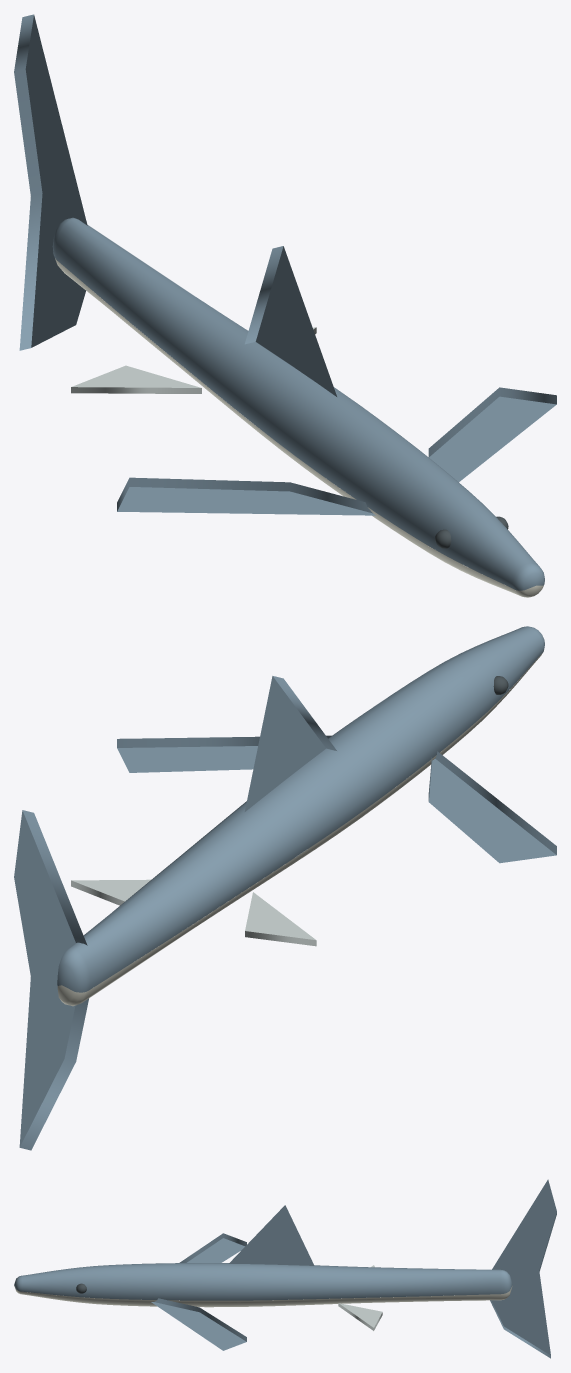
File: ocean_barra.glb
3 views of the same model, one above another, from view 1: azimuth 30°, elevation 25°; view 2: azimuth 150°, elevation 25°; view 3: azimuth 270°, elevation 25° (orthographic). The views are drawn at different scales.
Parts seen in each view (by area): view 1: barracuda; view 2: barracuda; view 3: barracuda.
Boxes of the visible parts, x1=… form: barracuda: x1=14, y1=14, x2=556, y2=597; barracuda: x1=14, y1=626, x2=556, y2=1150; barracuda: x1=14, y1=1179, x2=556, y2=1358.
Size of the model in its own units: 0.7383 by 0.5384 by 1.5.
